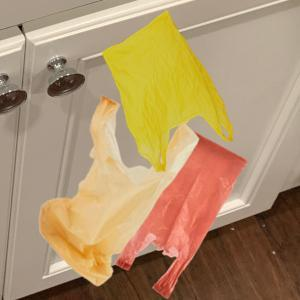plastic_bag: (33, 96, 200, 287), (115, 127, 250, 300), (100, 10, 238, 174)
